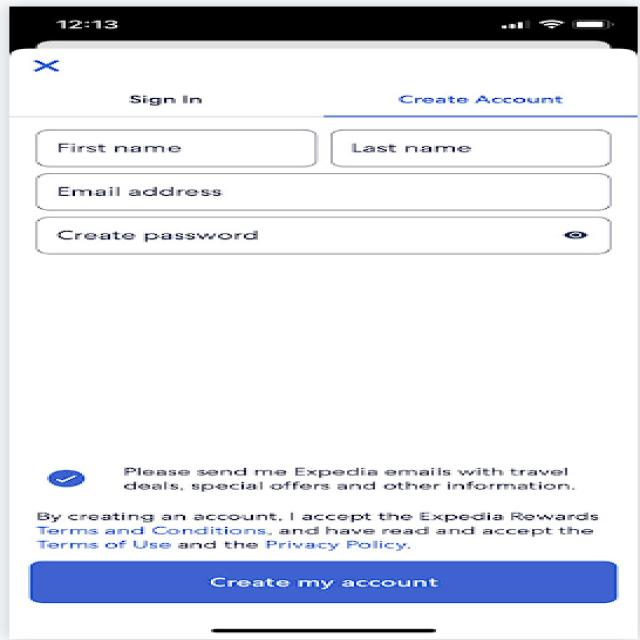button: (15, 556, 624, 614)
icon button: (21, 51, 82, 84)
input: (24, 215, 626, 260), (24, 169, 631, 211), (329, 120, 628, 171), (30, 123, 326, 170)
text: (18, 453, 605, 555)
